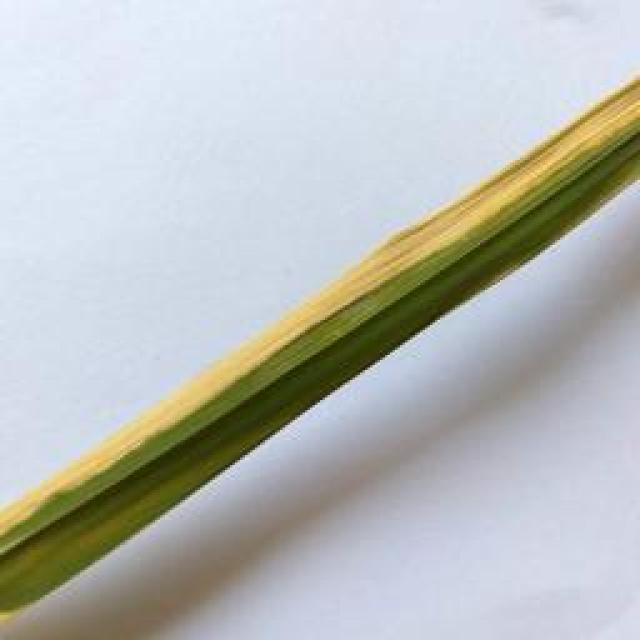Bacterial_Blight: (0, 77, 640, 534)
